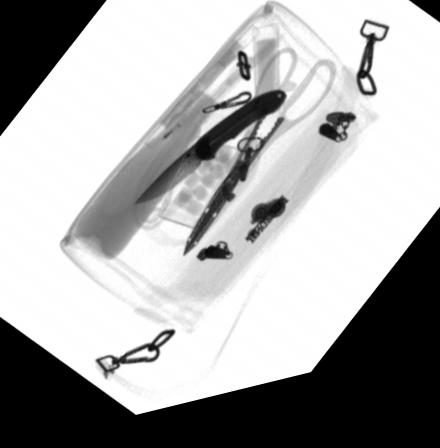Knife: (131, 104, 287, 212)
Scissors: (181, 58, 335, 263)
